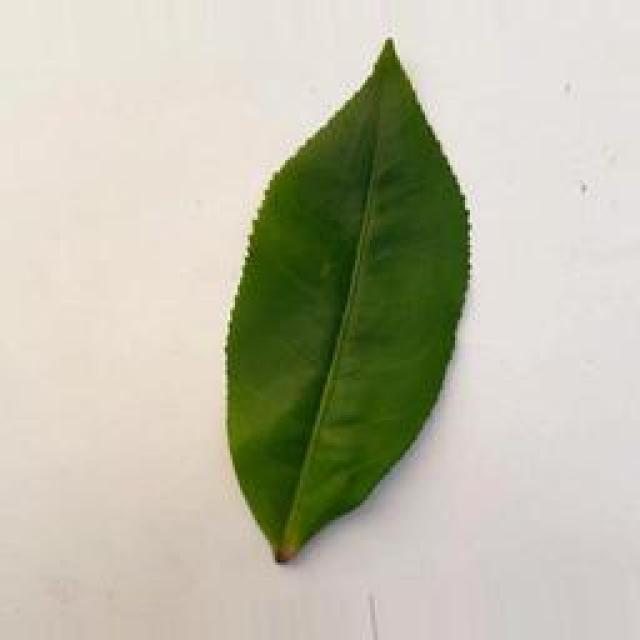Healthy: (208, 31, 481, 573)
